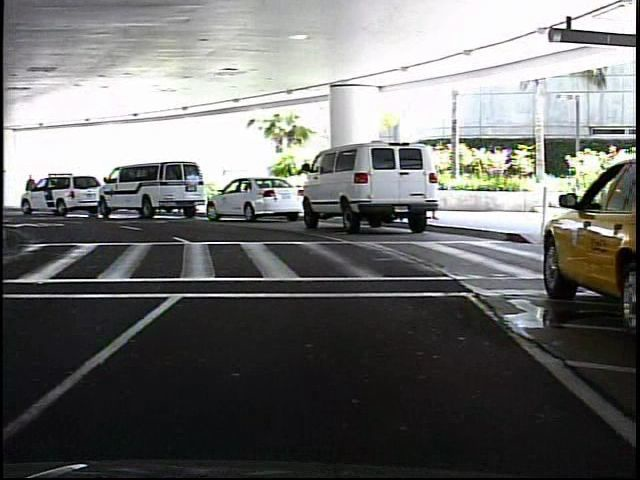person: (25, 171, 42, 208)
